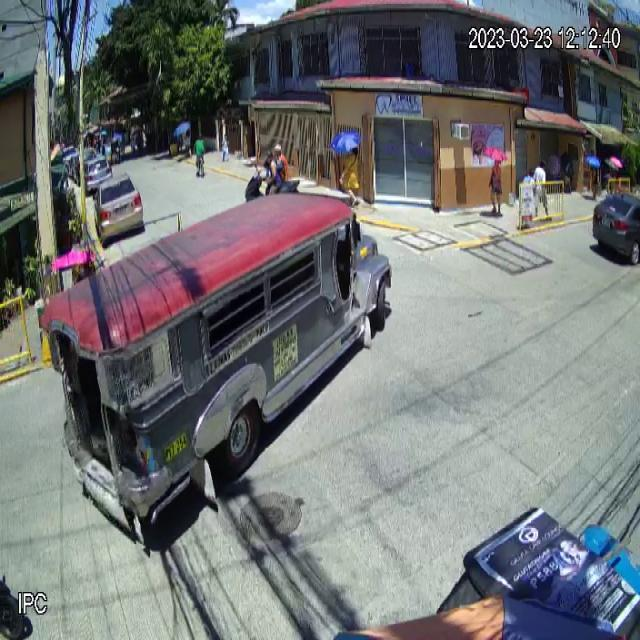Car: (93, 173, 143, 244), (593, 196, 640, 265)
Jeep: (37, 191, 393, 548)
